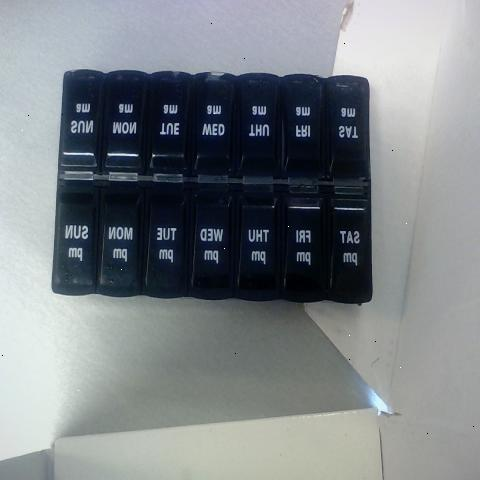FRI-am: (288, 79, 324, 173)
FRI-pm: (285, 191, 323, 299)
MON-am: (100, 72, 144, 175)
MON-pm: (100, 191, 139, 295)
SAT-am: (326, 82, 365, 178)
SAT-pm: (63, 70, 98, 175)
SUN-am: (332, 202, 367, 299)
SUN-pm: (56, 194, 96, 286)
THU-am: (239, 79, 279, 174)
THU-pm: (238, 188, 278, 296)
TUE-am: (147, 75, 188, 179)
TUE-pm: (142, 186, 186, 297)
WED-am: (191, 74, 233, 178)
WED-pm: (190, 184, 231, 297)
